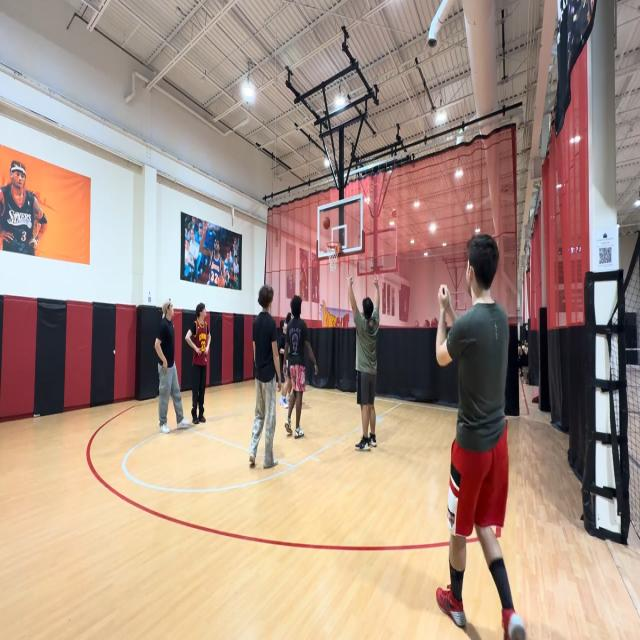Basketball: (323, 216, 331, 229)
Basketball Rim: (326, 241, 341, 274)
